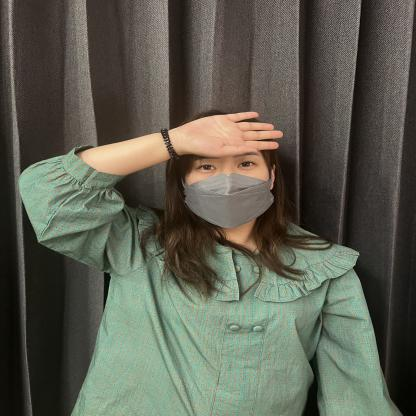Sick: (106, 93, 338, 170)
